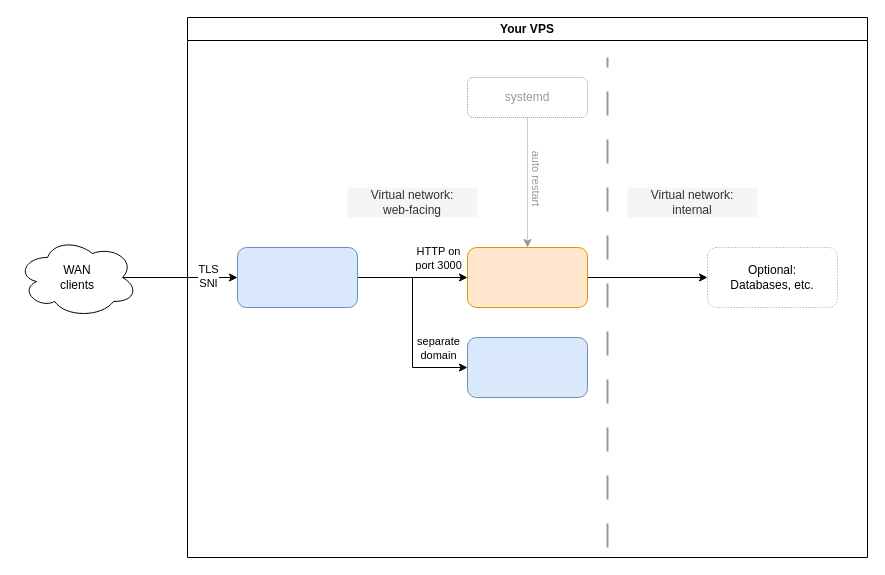
This 885x575 diagram has some shape labels left out. Here are the shapes that lost their labels. From the top down, the box of each, then its label:
(236, 246, 358, 308): Reverse proxy (HTTPS)
(466, 246, 588, 308): Your app (container)
(466, 336, 588, 398): Docker registry
